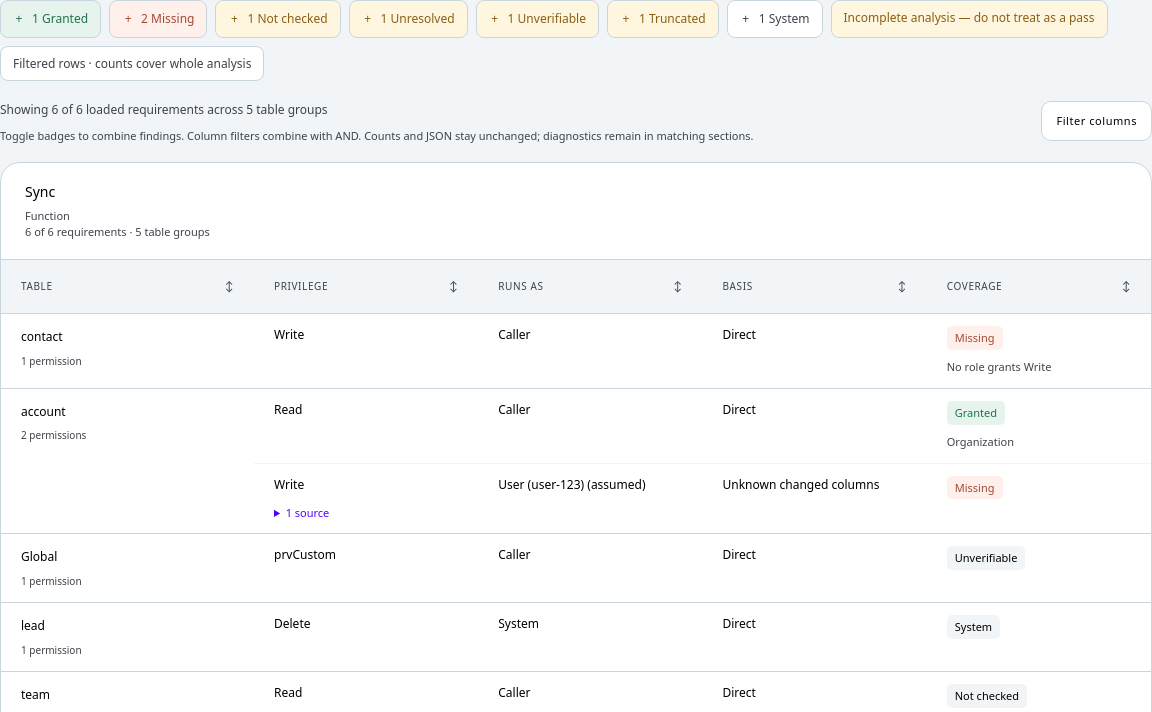
Scenario: Interactive report results › combines legend selections as OR, toggles off, and leaves report counts untouched
Click the button "+ 2 Missing".
click(158, 19)  # box [109,0,208,38]
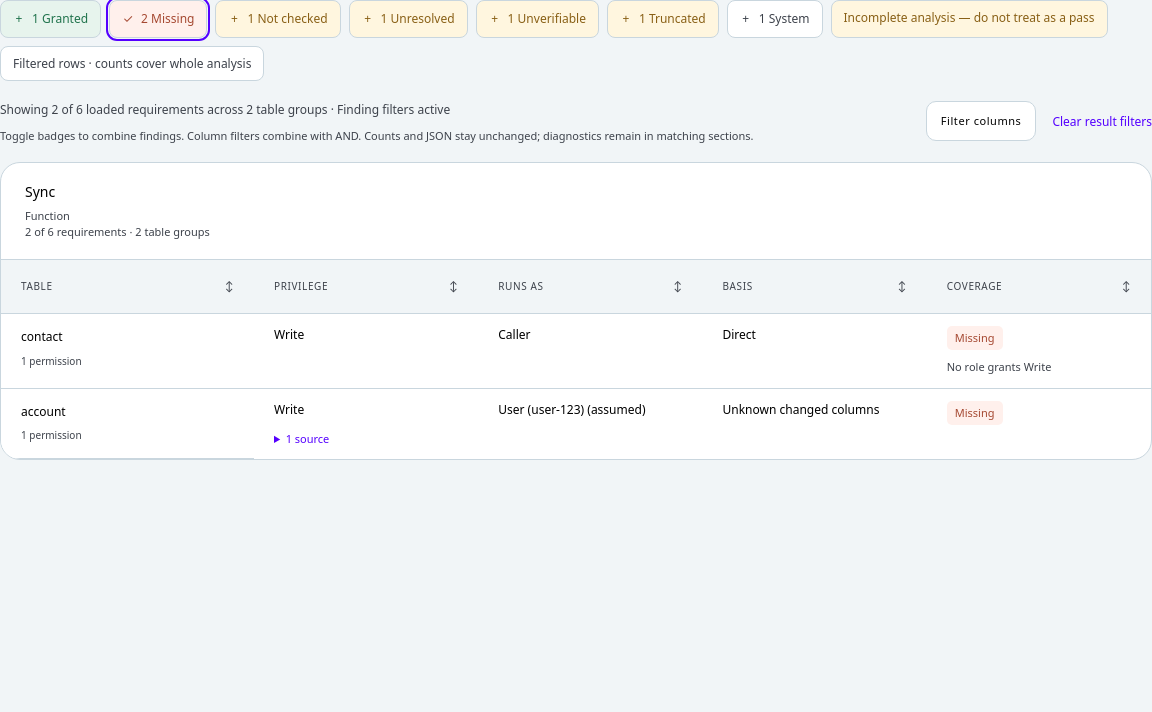
Expected: the number of list items is 2, [254,314,1151,388]; [273,400,1002,446]
Click the button "+ 1 Granted".
click(51, 19)  # box [0,0,101,38]
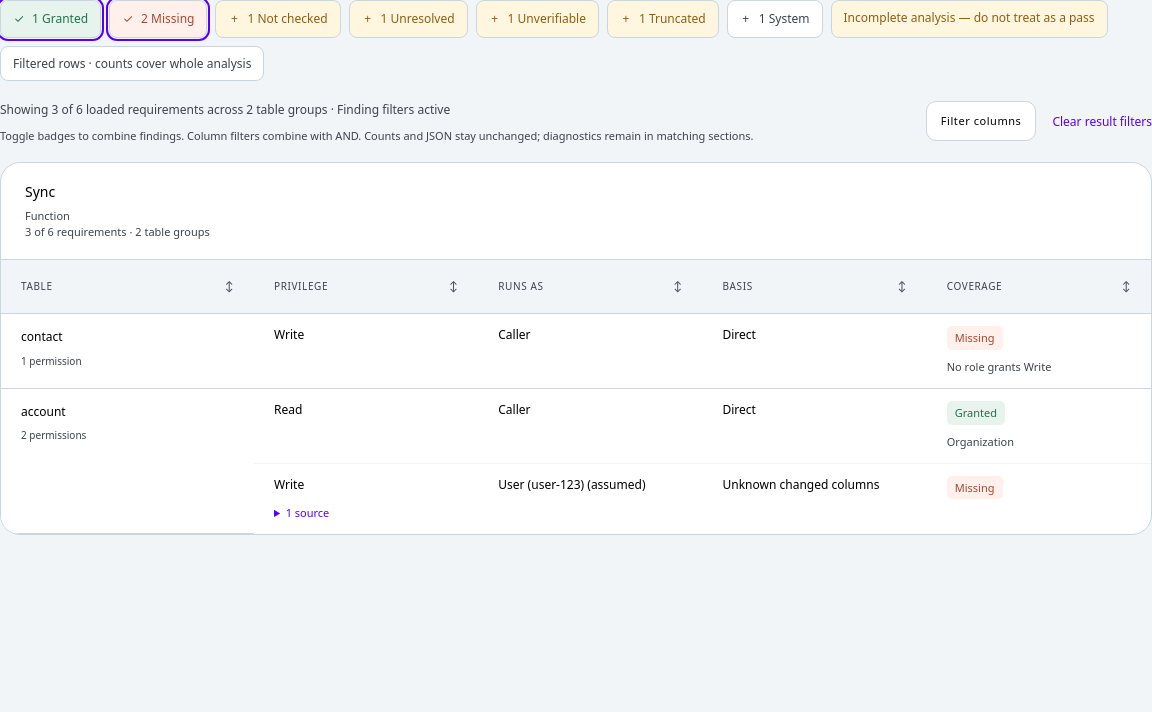
Expected: the number of list items is 3, [254,314,1151,388]; [273,400,1014,449]; [254,462,1151,533]
Click the button "✓ 2 Missing".
click(158, 19)  # box [109,0,208,38]
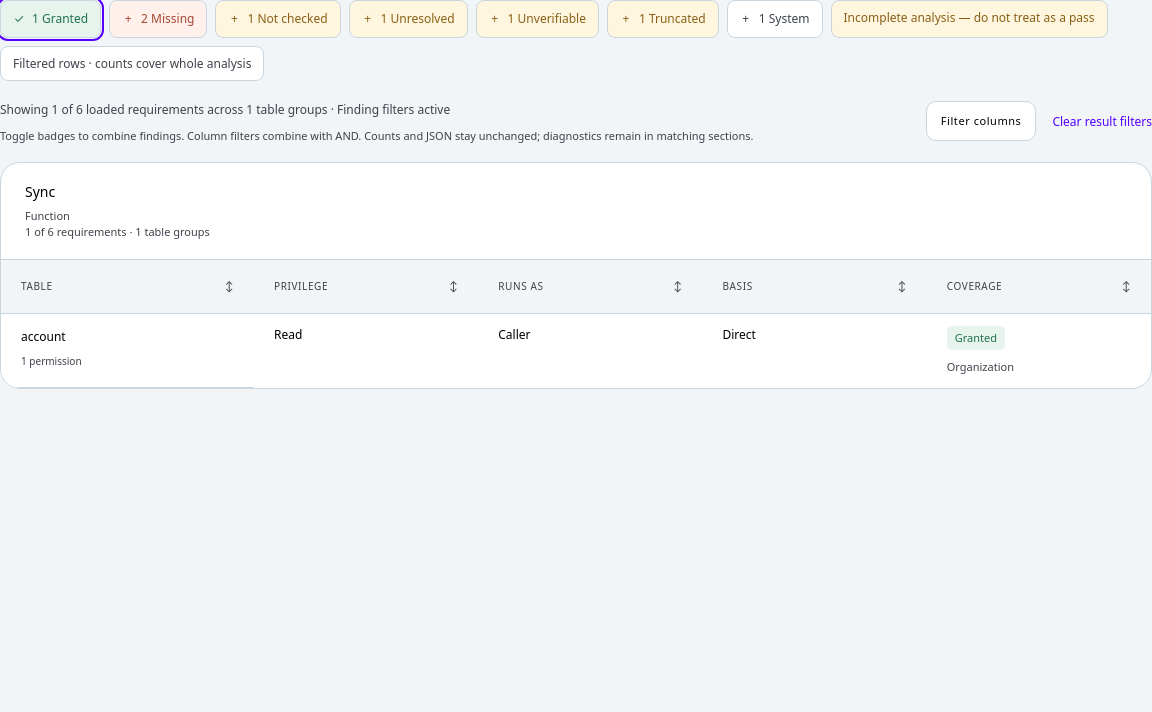
Expected: the text "Read" is shown, [273,325,325,343]
Expected: the number of list items is 1, [273,325,1014,374]
Click the button "✓ 1 Granted".
click(51, 19)  # box [0,0,101,38]
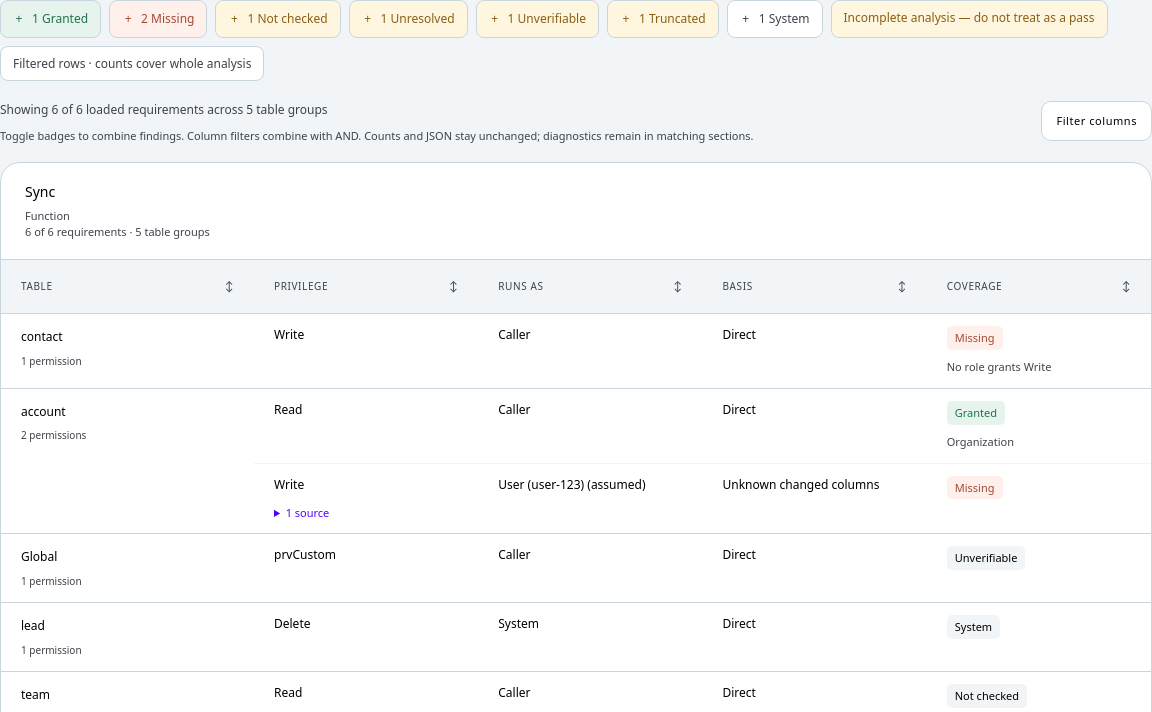
Expected: the text "Incomplete analysis — do not treat as a pass" is shown, [830,0,1108,38]
Expected: the number of list items is 6, [254,314,1151,388]; [273,400,1014,449]; [254,462,1151,533]; [273,545,1025,570]; [273,614,1002,639]; [273,683,1027,708]
